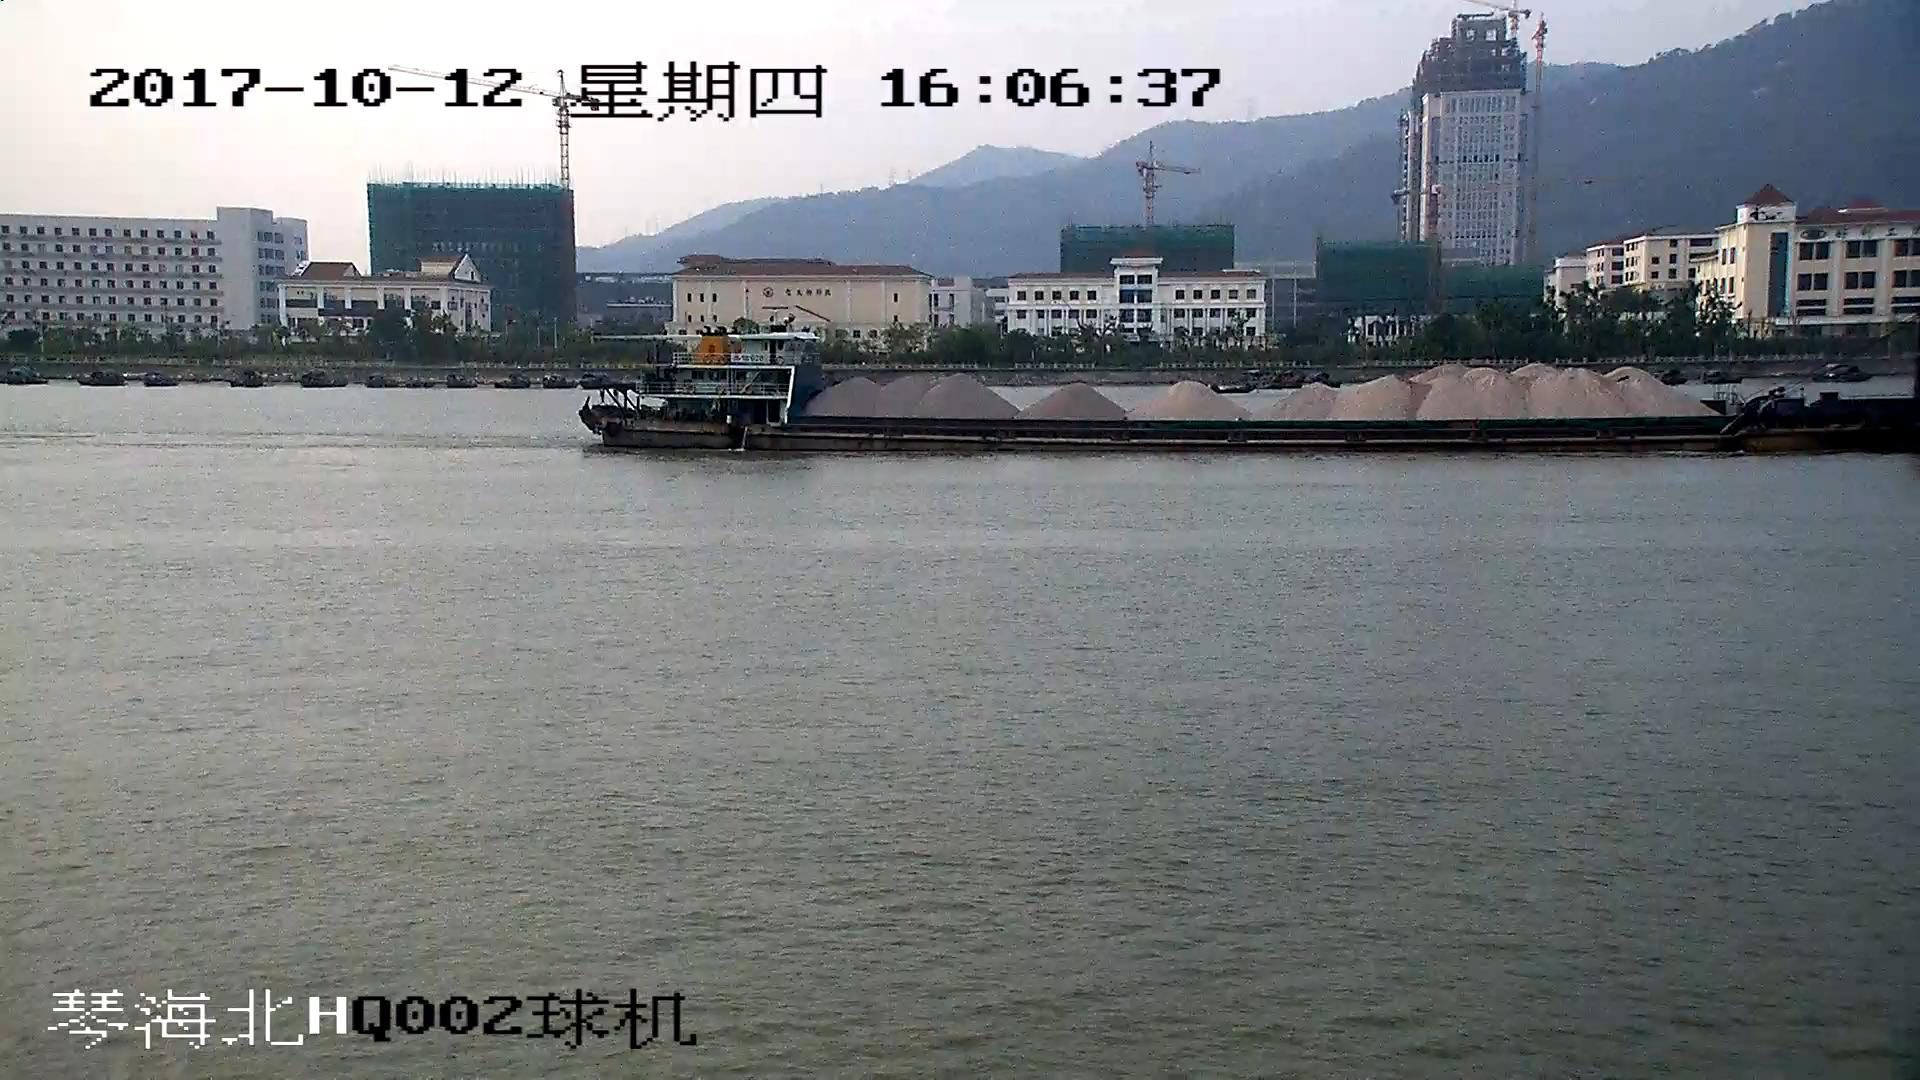ore carrier: (583, 319, 1920, 455)
